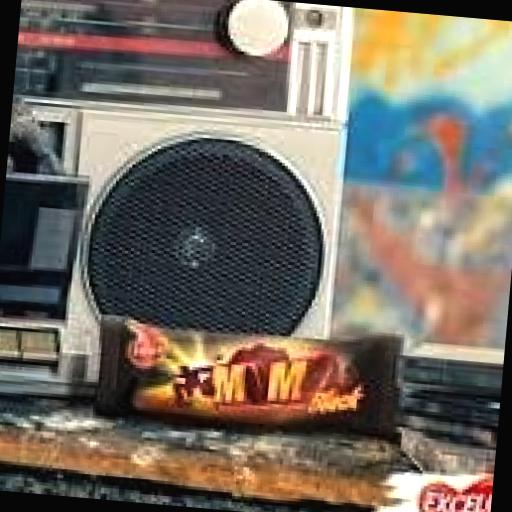MOMO: (43, 219, 446, 512)
